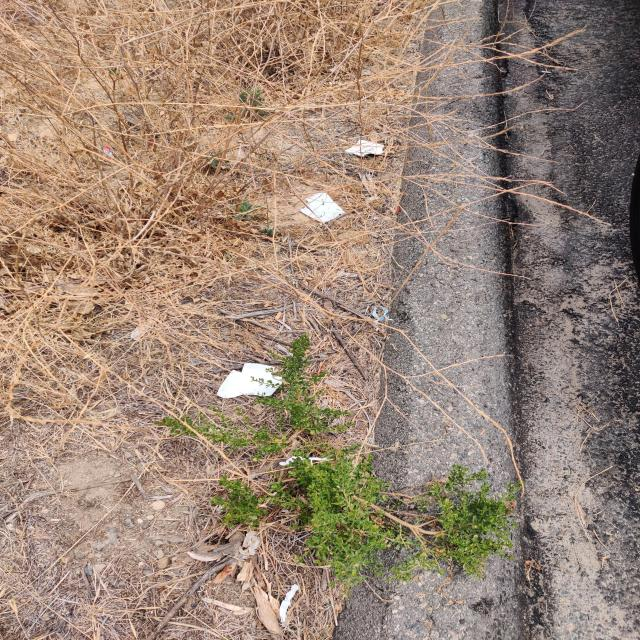litter: (218, 363, 285, 397), (301, 192, 345, 222), (347, 139, 385, 157), (104, 145, 112, 160)
